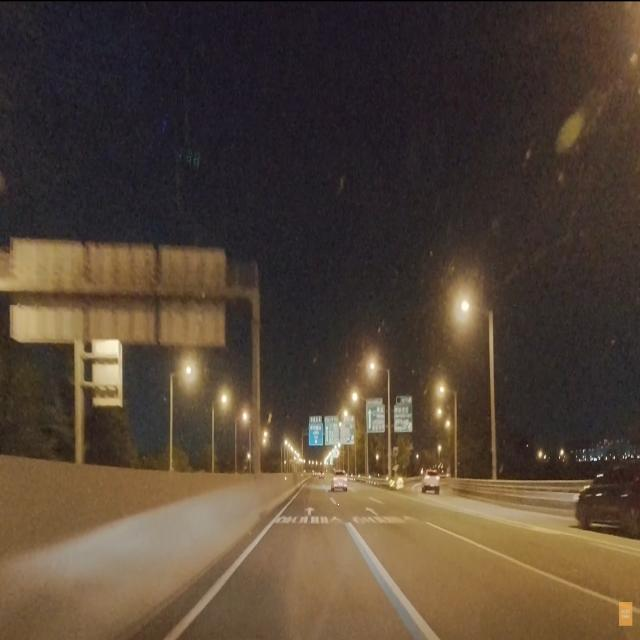forward: (275, 499, 341, 516)
